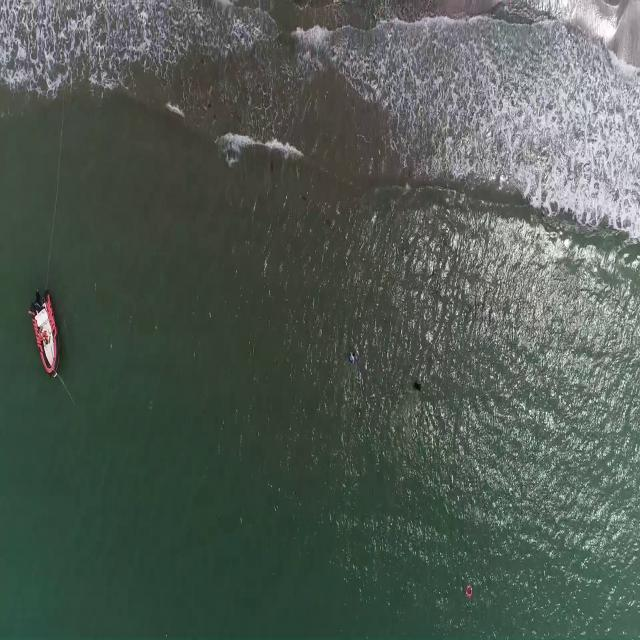boat: (30, 290, 60, 379)
life_buoy: (465, 584, 474, 598)
person: (348, 345, 359, 366), (412, 374, 423, 393)
